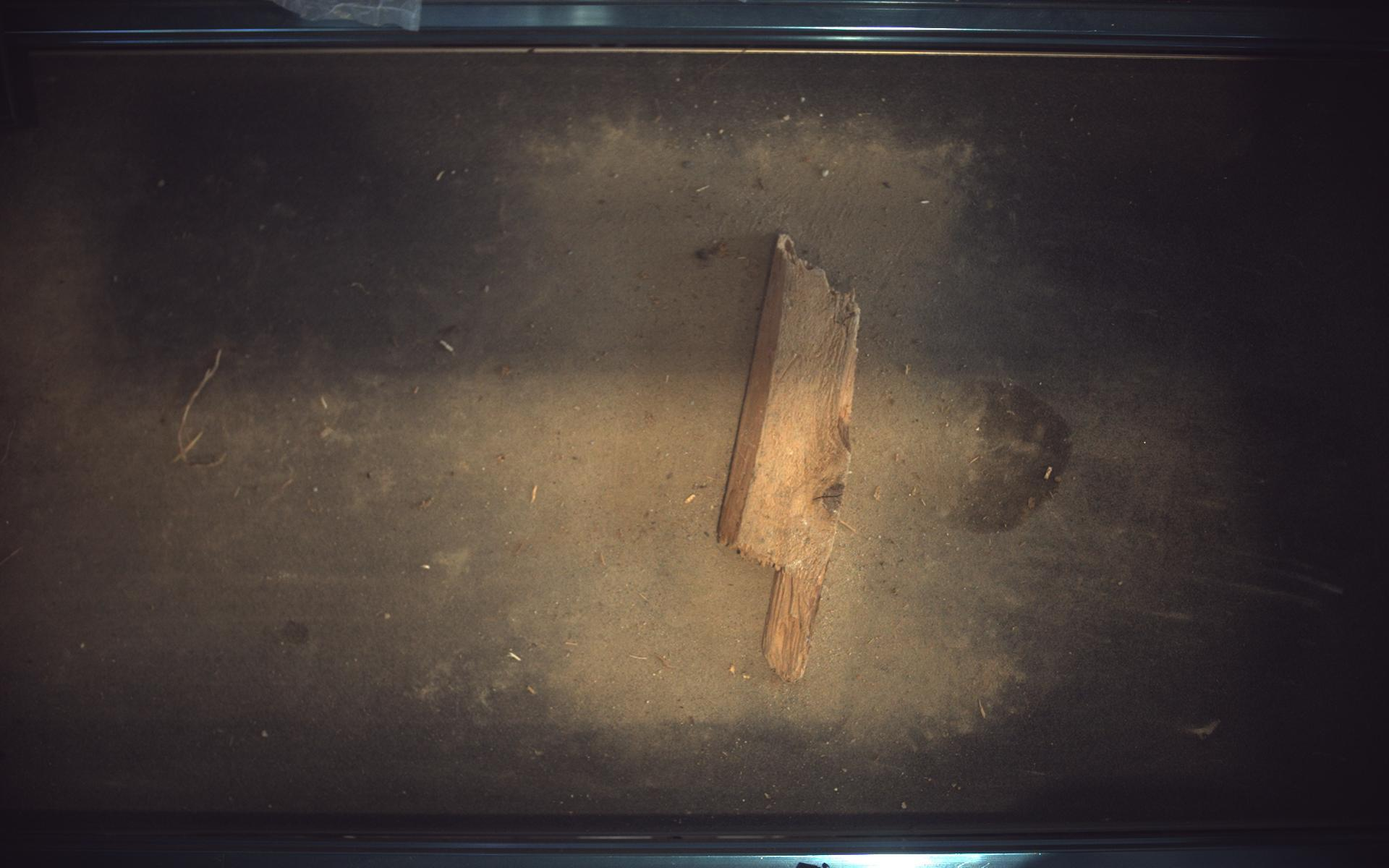wood: (719, 234, 862, 682)
